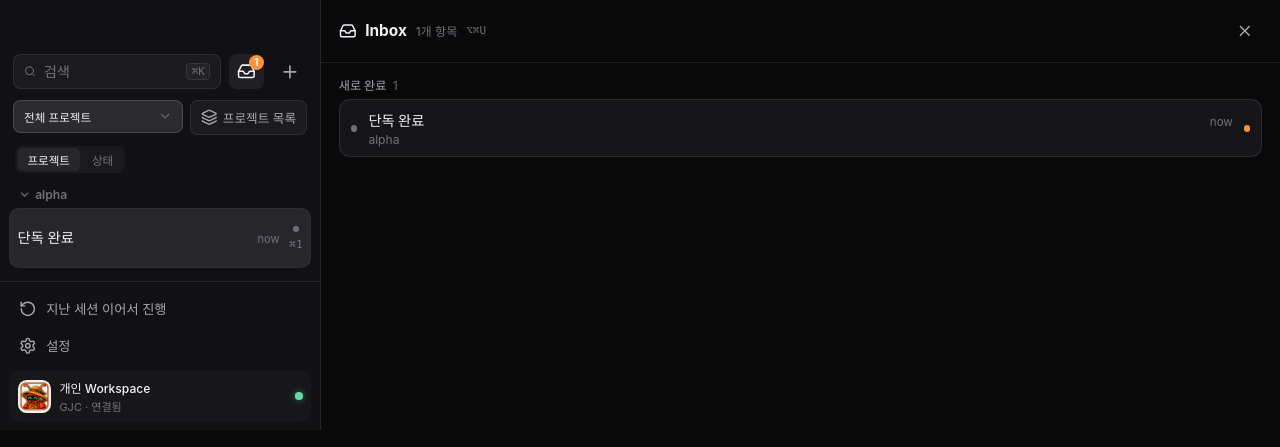
Inbox inside the shell › marks the already selected session read when its row is opened
Click the button with class "inbox-row__button" at coordinates (396, 121), box [340,100,1261,156]
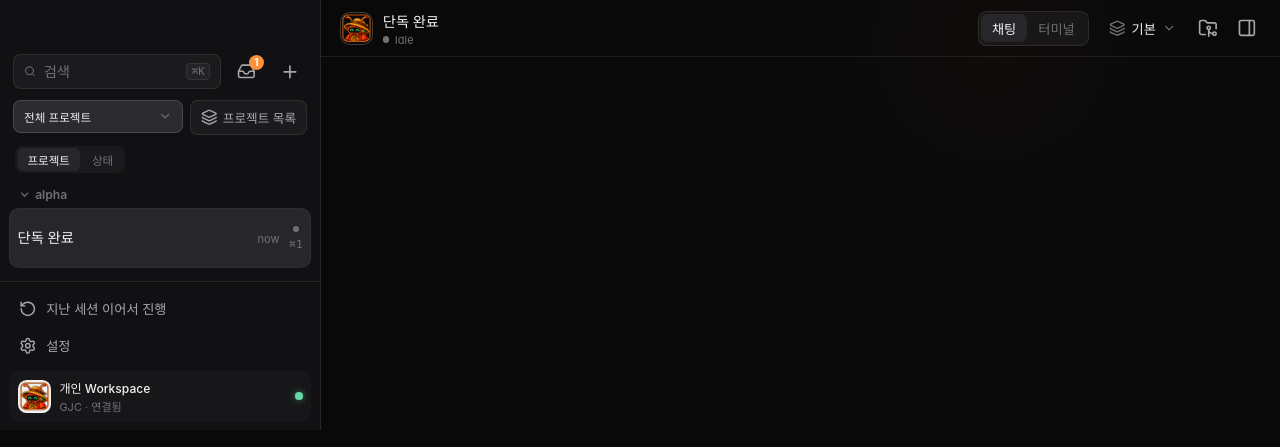
Now the element with class "inbox-view" is gone
